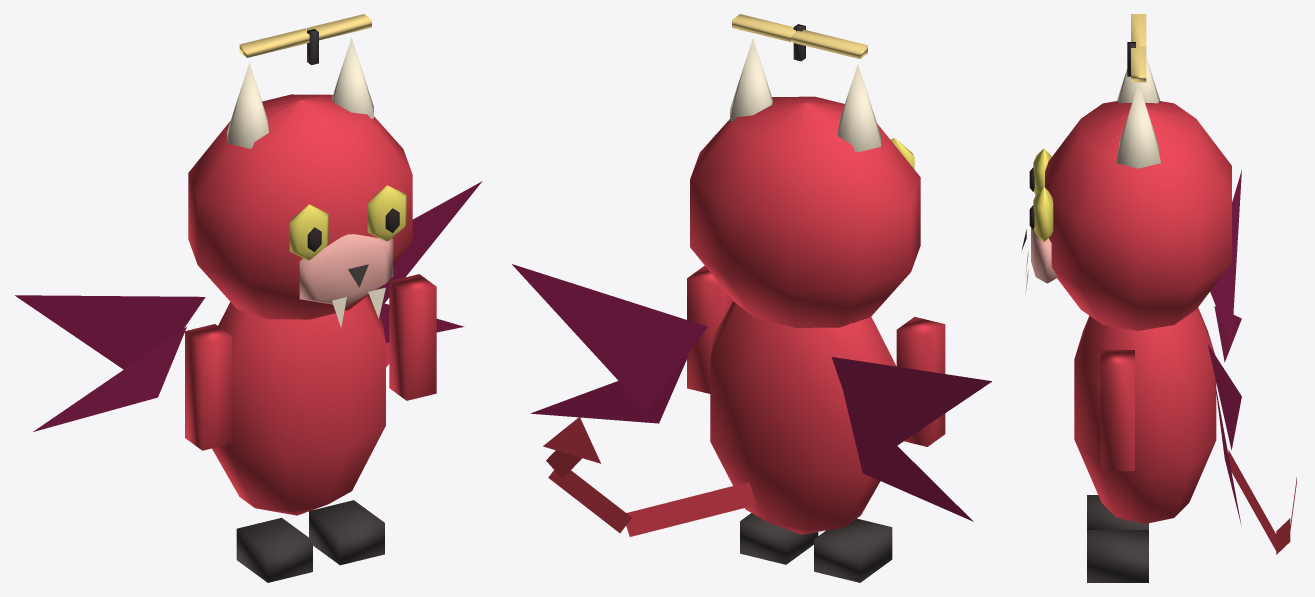
The model's file is grotesque_imp.glb.
3 renders of one model, left to right at view 1: azimuth 30°, elevation 25°; view 2: azimuth 150°, elevation 25°; view 3: azimuth 270°, elevation 25°, orthographic. The views are drawn at different scales.
Parts seen in each view (by area): view 1: large head, round belly, left rag wing, right arm, left arm, front muzzle, left lower wing, left foot, right foot, right rag wing, left horn, right horn (+4 smaller); view 2: large head, round belly, right rag wing, left rag wing, left foot, right arm, right lower wing, tail segment 0, left arm, left lower wing, right foot, left horn (+5 smaller); view 3: large head, round belly, right arm, right foot, right horn, left rag wing, right rag wing, left foot, right eye, front muzzle, left horn, tail segment 0 (+6 smaller).
Boxes of the visible parts, x1=… form: large head: x1=188, y1=94, x2=412, y2=319; round belly: x1=212, y1=296, x2=385, y2=515; left rag wing: x1=15, y1=295, x2=205, y2=369; right arm: x1=389, y1=274, x2=436, y2=400; left arm: x1=185, y1=324, x2=232, y2=450; front muzzle: x1=299, y1=234, x2=393, y2=306; left lower wing: x1=33, y1=327, x2=186, y2=431; left foot: x1=236, y1=517, x2=312, y2=582; right foot: x1=309, y1=500, x2=384, y2=565; right rag wing: x1=368, y1=181, x2=482, y2=303; left horn: x1=227, y1=62, x2=268, y2=148; right horn: x1=332, y1=38, x2=373, y2=118; large head: x1=690, y1=96, x2=920, y2=327; round belly: x1=710, y1=301, x2=896, y2=534; right rag wing: x1=512, y1=264, x2=707, y2=410; left rag wing: x1=831, y1=357, x2=991, y2=464; left foot: x1=814, y1=518, x2=892, y2=582; right arm: x1=687, y1=265, x2=732, y2=393; right lower wing: x1=530, y1=355, x2=688, y2=423; tail segment 0: x1=626, y1=482, x2=756, y2=536; left arm: x1=896, y1=316, x2=945, y2=446; left lower wing: x1=843, y1=393, x2=973, y2=521; right foot: x1=740, y1=513, x2=818, y2=564; left horn: x1=837, y1=64, x2=880, y2=152; large head: x1=1045, y1=101, x2=1231, y2=330; round belly: x1=1074, y1=307, x2=1216, y2=523; right arm: x1=1100, y1=350, x2=1134, y2=470; right foot: x1=1087, y1=530, x2=1148, y2=582; right horn: x1=1116, y1=83, x2=1160, y2=168; left rag wing: x1=1210, y1=170, x2=1241, y2=345; right rag wing: x1=1207, y1=344, x2=1241, y2=449; left foot: x1=1087, y1=495, x2=1148, y2=529; right eye: x1=1033, y1=186, x2=1053, y2=241; front muzzle: x1=1031, y1=228, x2=1057, y2=283; left horn: x1=1117, y1=58, x2=1160, y2=103; tail segment 0: x1=1228, y1=450, x2=1276, y2=550.
Size of the model in its own units: 1.56 by 1.65 by 0.81.
